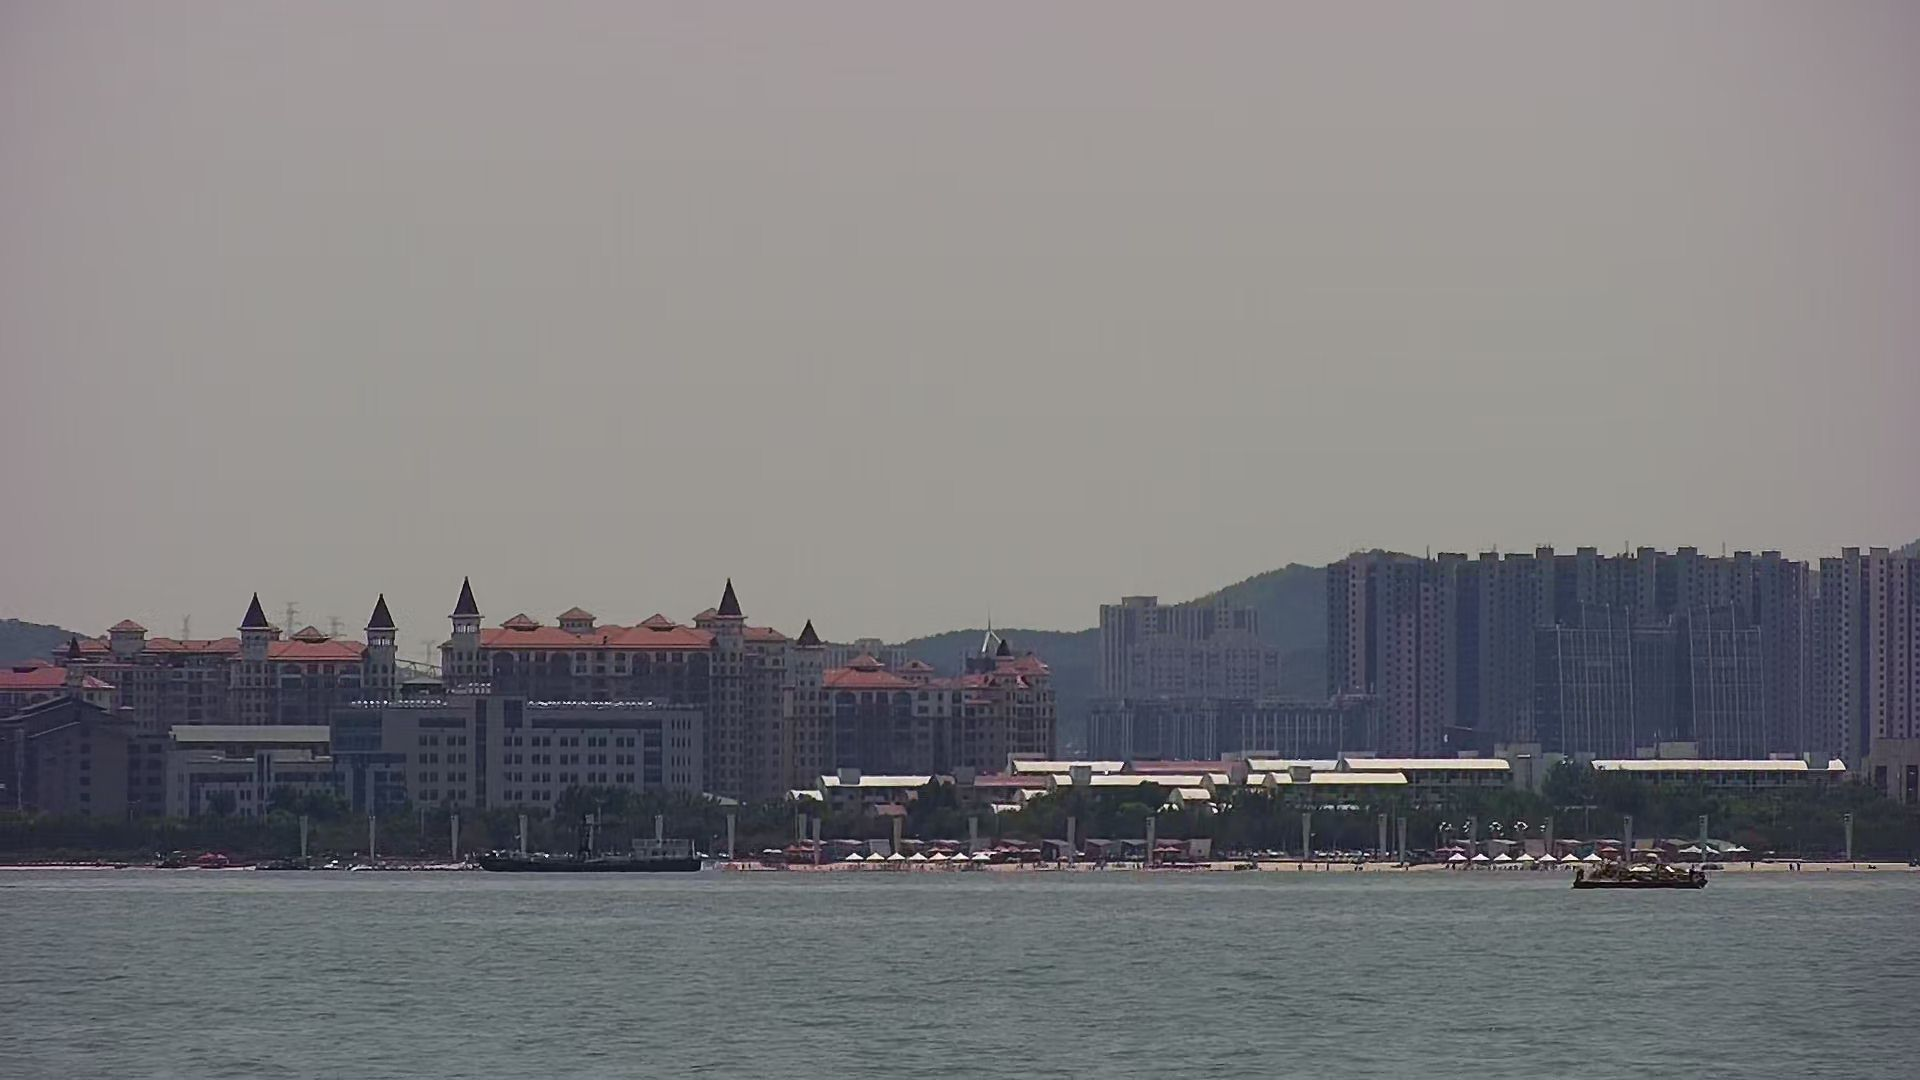ship: (1571, 847, 1716, 889)
